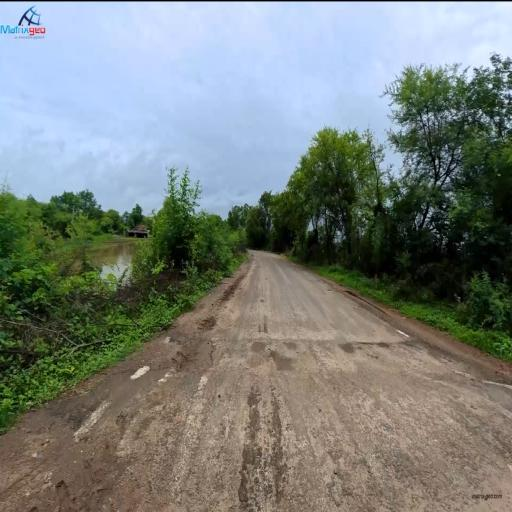ravelling: (215, 361, 447, 486), (221, 329, 397, 352)
